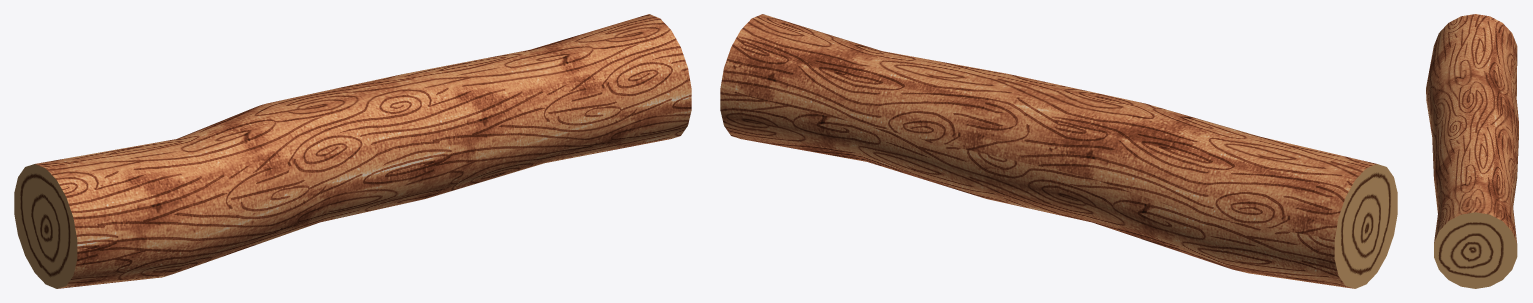
The model's file is log_mesh.fbx.
3 views of the same model, side by side, from view 1: azimuth 30°, elevation 25°; view 2: azimuth 150°, elevation 25°; view 3: azimuth 270°, elevation 25° (orthographic). The views are drawn at different scales.
Visible parts, largest first — view 1: Cylinder001; view 2: Cylinder001; view 3: Cylinder001.
Part boxes in pixels (box(x1,y1,x2,y2)): Cylinder001: box(14, 14, 691, 288); Cylinder001: box(720, 14, 1397, 288); Cylinder001: box(1426, 14, 1518, 288).
Bounding box in the file's own units: 114 × 23.28 × 22.63.
Materials: 1 (1 with a texture image).
